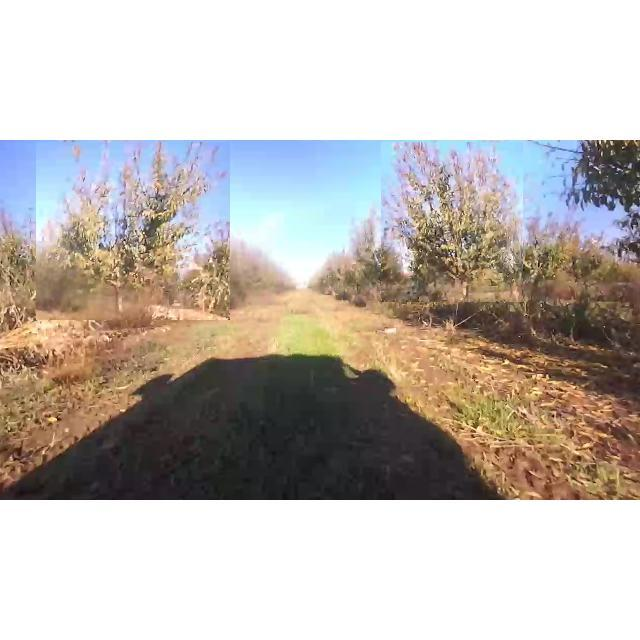tree: (36, 142, 230, 320), (381, 142, 523, 302), (351, 213, 409, 299)
